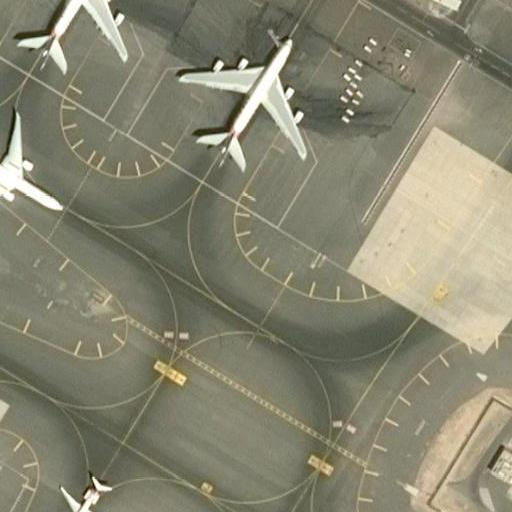Aircraft: (175, 24, 314, 173), (0, 0, 128, 74), (0, 96, 62, 222), (54, 464, 121, 512)
